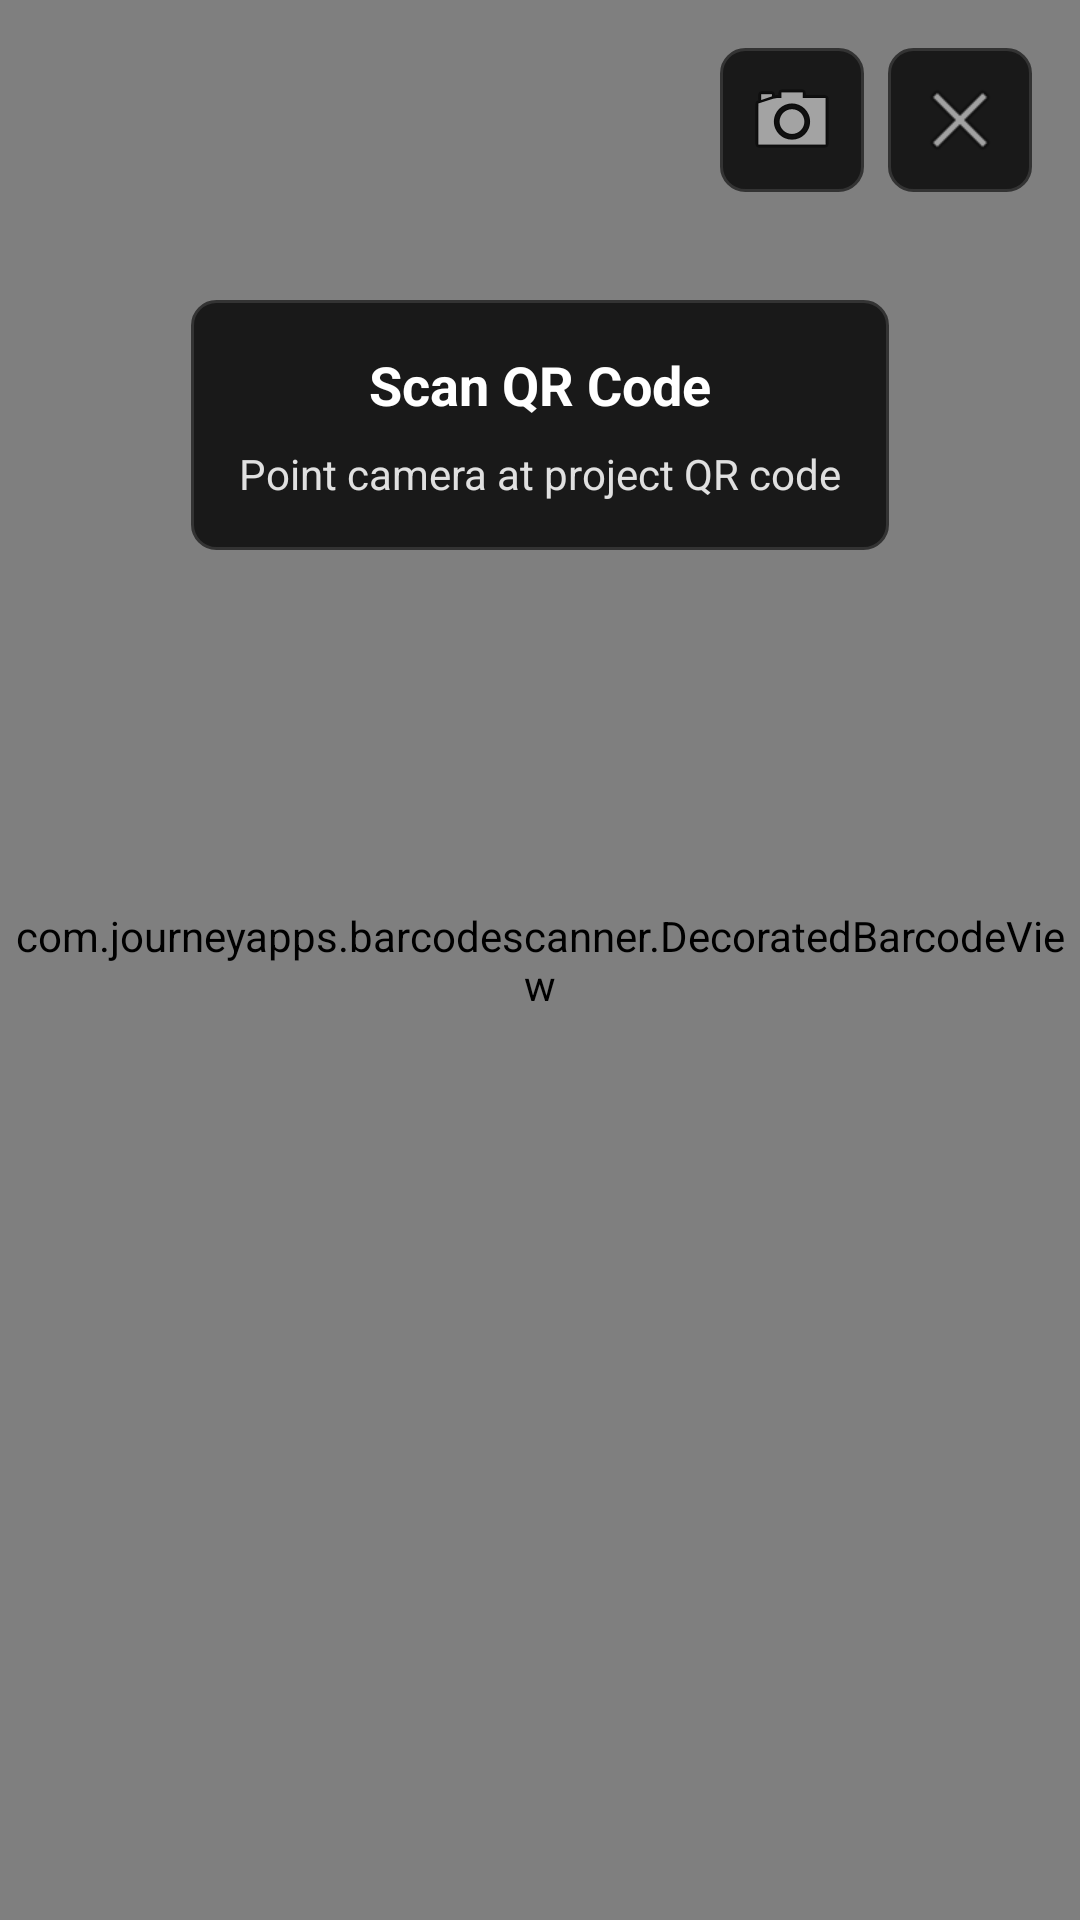

Screen size 1080px x 1920px. Icon name, then its center in pixels as point (x, y):
Cancel scan: point (960, 120)
